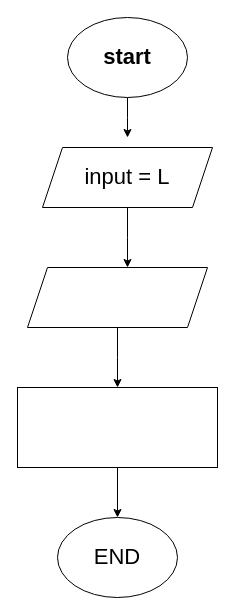
This 235x615 diagram has some shape labels left out. The shapes that lost their labels are listed below. From the top down, each one's centre as x and y in pixels, then its label:
point (117, 297): input = W
point (117, 427): output = Area L*W
